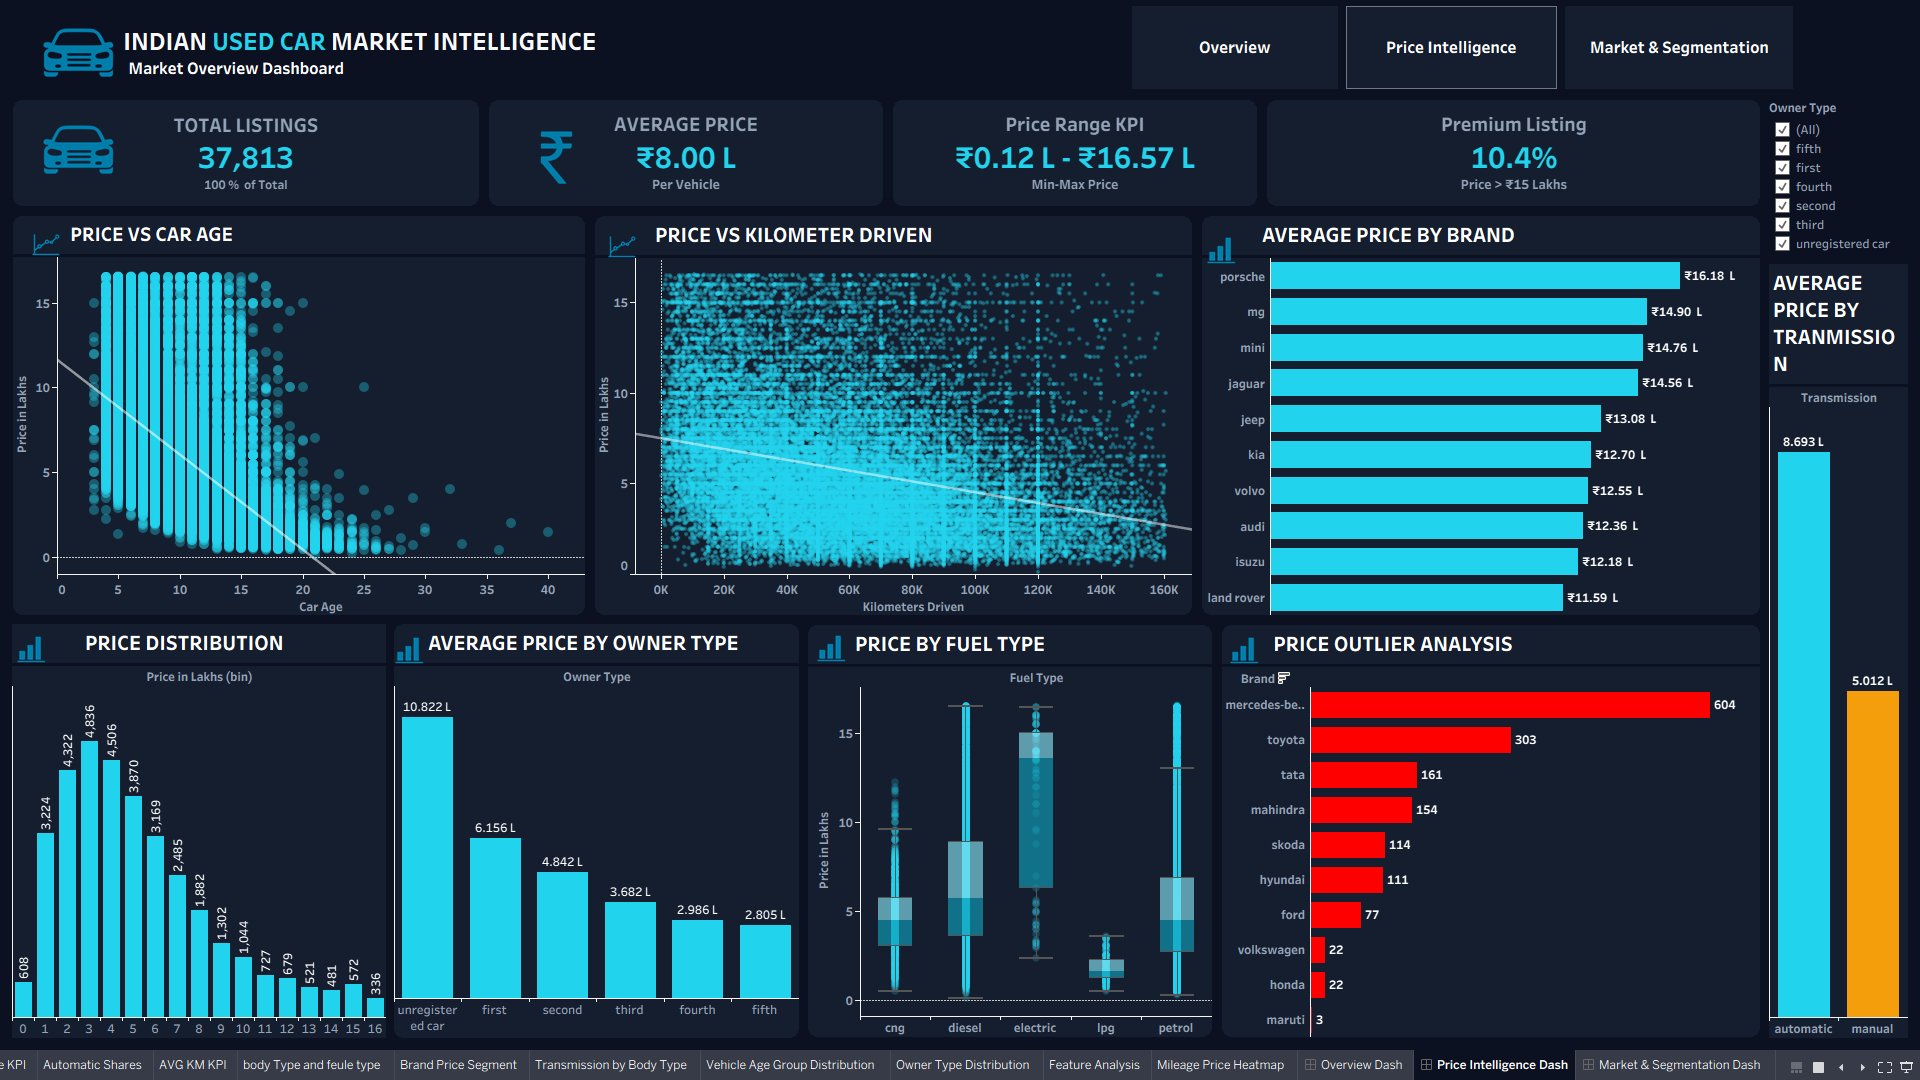

The dashboard page shown, as its layout file describes it:
{"tool":"tableau","page":{"name":"Price Intelligence Dash","canvas":[1000,1000],"units":"permille","ordinal":2},"visuals":[{"type":"dashboard-object","box":[587.7,2.2,125.5,87]},{"type":"dashboard-object","box":[713.2,2.2,128.4,87]},{"type":"dashboard-object","box":[841.6,2.2,138.4,87]},{"type":"text","box":[4.7,8.9,990.6,82.5]},{"type":"image","param":"Image/car.png","box":[19.4,12.3,46.3,80.4]},{"type":"worksheet","title":"Total Listings","mark":"Automatic","box":[4.7,91.4,245.2,110.6]},{"type":"worksheet","title":"Average Price","mark":"Automatic","box":[249.8,91.4,237,110.6]},{"type":"worksheet","title":"Price Range KPI","mark":"Automatic","box":[486.8,91.4,219.4,110.6]},{"type":"worksheet","title":"premium Listing","mark":"Automatic","box":[706.2,91.4,202.9,110.6]},{"type":"filter","title":"Average Price by Owner Type","param":"[federated.0n80w3h17nfst11f9xo4f0tim0gw].[none:Owner Type:nk]","box":[909.1,91.4,86.2,184.2]},{"type":"image","param":"Image/car.png","box":[19.4,104.9,46.3,80.4]},{"type":"image","param":"Image/Rupee.png","box":[273.9,111.6,40.5,78.1]},{"type":"worksheet","title":"Price Vs Car Age","mark":"Circle","rows":["Calculation_0361759323467776"],"cols":["Car Age"],"box":[4.7,202,299.5,388.2]},{"type":"worksheet","title":"Price vs Kilometers Driven","mark":"Automatic","rows":["Calculation_0361759323467776"],"cols":["Kilometers Driven"],"box":[304.2,202,312.6,388.2]},{"type":"worksheet","title":"Avg price by Brand","mark":"Automatic","rows":["Brand"],"cols":["Calculation_0361759323467776"],"box":[616.7,202,292.4,388.2]},{"type":"image","param":"Image/Line.png","box":[14.6,216.5,22.8,34.6]},{"type":"image","param":"Image/Line.png","box":[314.4,217.6,22.9,34.6]},{"type":"image","param":"Image/bar.png","box":[626.4,223.2,19.4,32.4]},{"type":"worksheet","title":"Avg Price By Transimission","mark":"Automatic","rows":["Calculation_0361759323467776"],"cols":["Transmission"],"box":[909.1,275.5,86.2,715.5]},{"type":"worksheet","title":"Price Distribustion","mark":"Bar","rows":["Car ID"],"cols":["Price in Lakhs (bin)"],"box":[4.7,590.2,196.7,400.9]},{"type":"worksheet","title":"Average Price by Owner Type","mark":"Automatic","rows":["Calculation_0361759323467776"],"cols":["Owner Type"],"box":[201.4,590.2,212.6,400.9]},{"type":"worksheet","title":"Price by fuel Type","mark":"Circle","rows":["Calculation_0361759323467776"],"cols":["Fuel Type"],"box":[414,590.2,212.9,400.9]},{"type":"worksheet","title":"Price Outlier Analysis","mark":"Automatic","rows":["Brand"],"cols":["Car ID"],"box":[626.9,590.2,282.2,400.9]},{"type":"image","param":"Image/bar.png","box":[423.5,601.6,19.4,32.4]},{"type":"image","param":"Image/bar.png","box":[7,602.7,19.3,32.4]},{"type":"image","param":"Image/bar.png","box":[203.5,603.8,19.4,32.4]},{"type":"image","param":"Image/bar.png","box":[638.7,603.8,19.4,32.4]}]}

Visuals, with their boxes on the dashboard's canvas, which has no fixed pixel size, in thousandths of its width and height (x1, y1, x2, y2). These are canvas units, not pixel positions in the 1920x1080 screenshot, which may show the page scaled, cropped or inside an application window:
dashboard-object: box=[588, 2, 713, 89]
dashboard-object: box=[713, 2, 842, 89]
dashboard-object: box=[842, 2, 980, 89]
text: box=[5, 9, 995, 91]
image: box=[19, 12, 66, 93]
"Total Listings" worksheet: box=[5, 91, 250, 202]
"Average Price" worksheet: box=[250, 91, 487, 202]
"Price Range KPI" worksheet: box=[487, 91, 706, 202]
"premium Listing" worksheet: box=[706, 91, 909, 202]
"Average Price by Owner Type" filter: box=[909, 91, 995, 276]
image: box=[19, 105, 66, 185]
image: box=[274, 112, 314, 190]
"Price Vs Car Age" worksheet (Circle marks): box=[5, 202, 304, 590]
"Price vs Kilometers Driven" worksheet: box=[304, 202, 617, 590]
"Avg price by Brand" worksheet: box=[617, 202, 909, 590]
image: box=[15, 216, 37, 251]
image: box=[314, 218, 337, 252]
image: box=[626, 223, 646, 256]
"Avg Price By Transimission" worksheet: box=[909, 276, 995, 991]
"Price Distribustion" worksheet (Bar marks): box=[5, 590, 201, 991]
"Average Price by Owner Type" worksheet: box=[201, 590, 414, 991]
"Price by fuel Type" worksheet (Circle marks): box=[414, 590, 627, 991]
"Price Outlier Analysis" worksheet: box=[627, 590, 909, 991]
image: box=[424, 602, 443, 634]
image: box=[7, 603, 26, 635]
image: box=[204, 604, 223, 636]
image: box=[639, 604, 658, 636]
